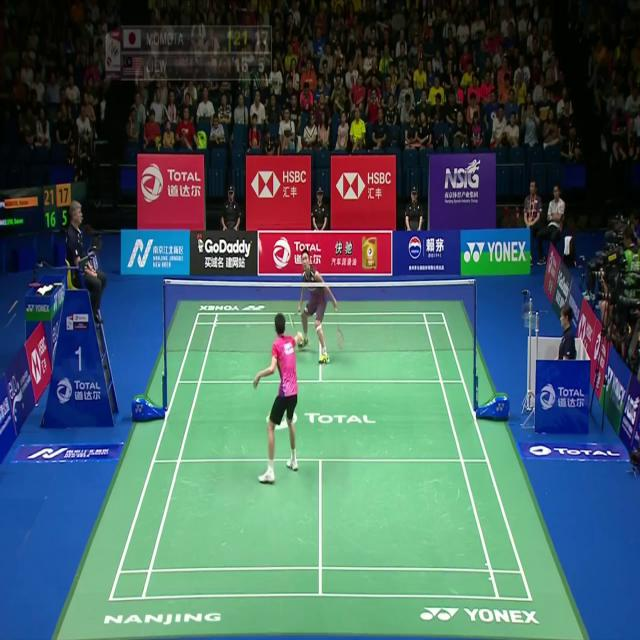Shuttlecock: (256, 239, 263, 250)
